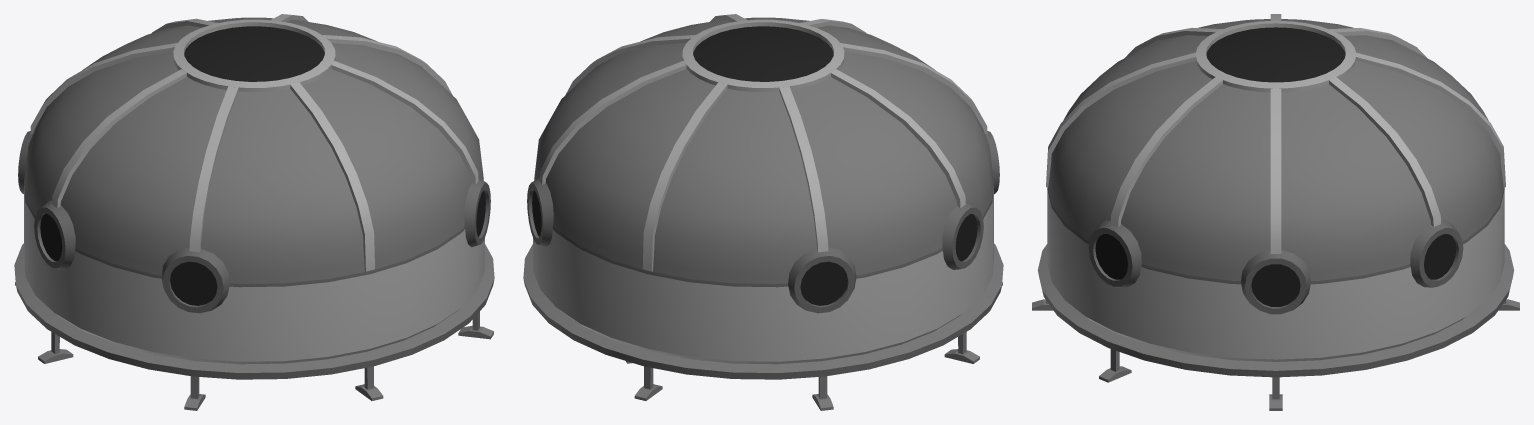
Rendered from Base Large.glb.
3 views of the same model, side by side, from view 1: azimuth 30°, elevation 25°; view 2: azimuth 150°, elevation 25°; view 3: azimuth 270°, elevation 25° (orthographic).
Visible parts, largest first — view 1: Base_Large; view 2: Base_Large; view 3: Base_Large.
Part boxes in pixels (box(x1,y1,x2,y2)): Base_Large: box(14, 14, 494, 410); Base_Large: box(523, 14, 1003, 410); Base_Large: box(1032, 14, 1519, 410).
Size of the model in its own units: 8.53 by 4.97 by 8.53.
Materials: 1 (1 with a texture image).
